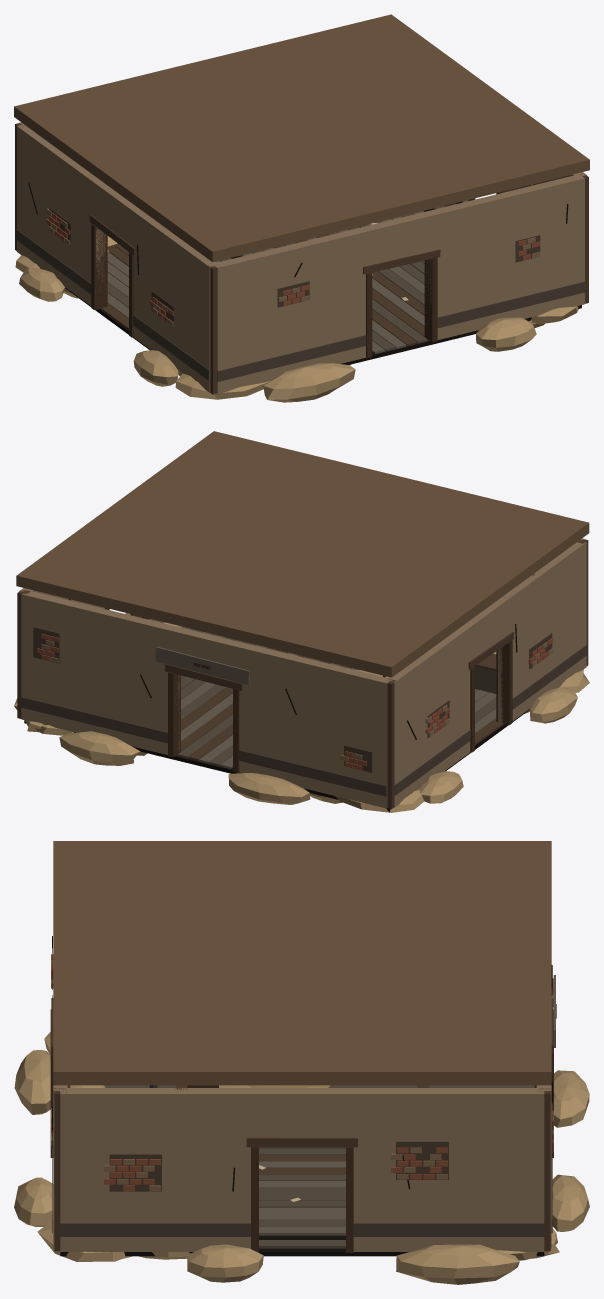
The model's file is TownBldg_post.glb.
3 renders of one model, top to bottom at view 1: azimuth 30°, elevation 25°; view 2: azimuth 150°, elevation 25°; view 3: azimuth 270°, elevation 25°, orthographic. The views are drawn at different scales.
Parts seen in each view (by area): view 1: TownBldg_post.001; view 2: TownBldg_post.001; view 3: TownBldg_post.001.
Part boxes in pixels (box(x1,y1,x2,y2)): TownBldg_post.001: box(14, 14, 589, 402); TownBldg_post.001: box(14, 431, 589, 812); TownBldg_post.001: box(14, 841, 589, 1284).
Size of the model in its own units: 12.87 by 4.7 by 11.91.
